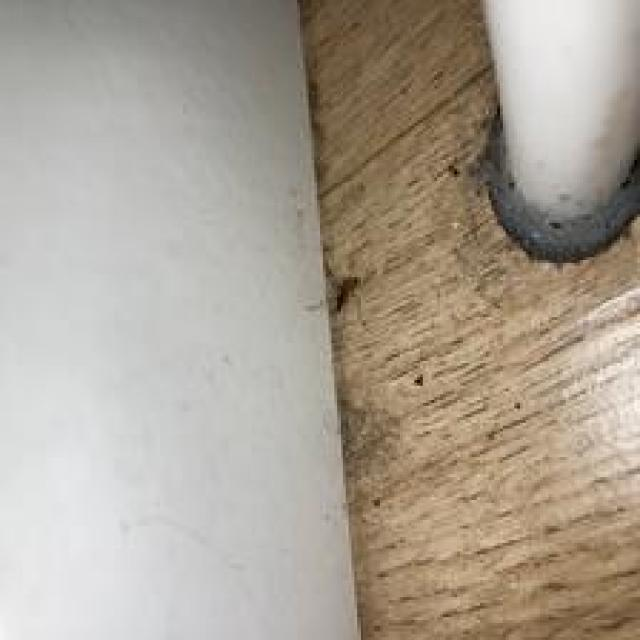Culex: (465, 0, 640, 263)
